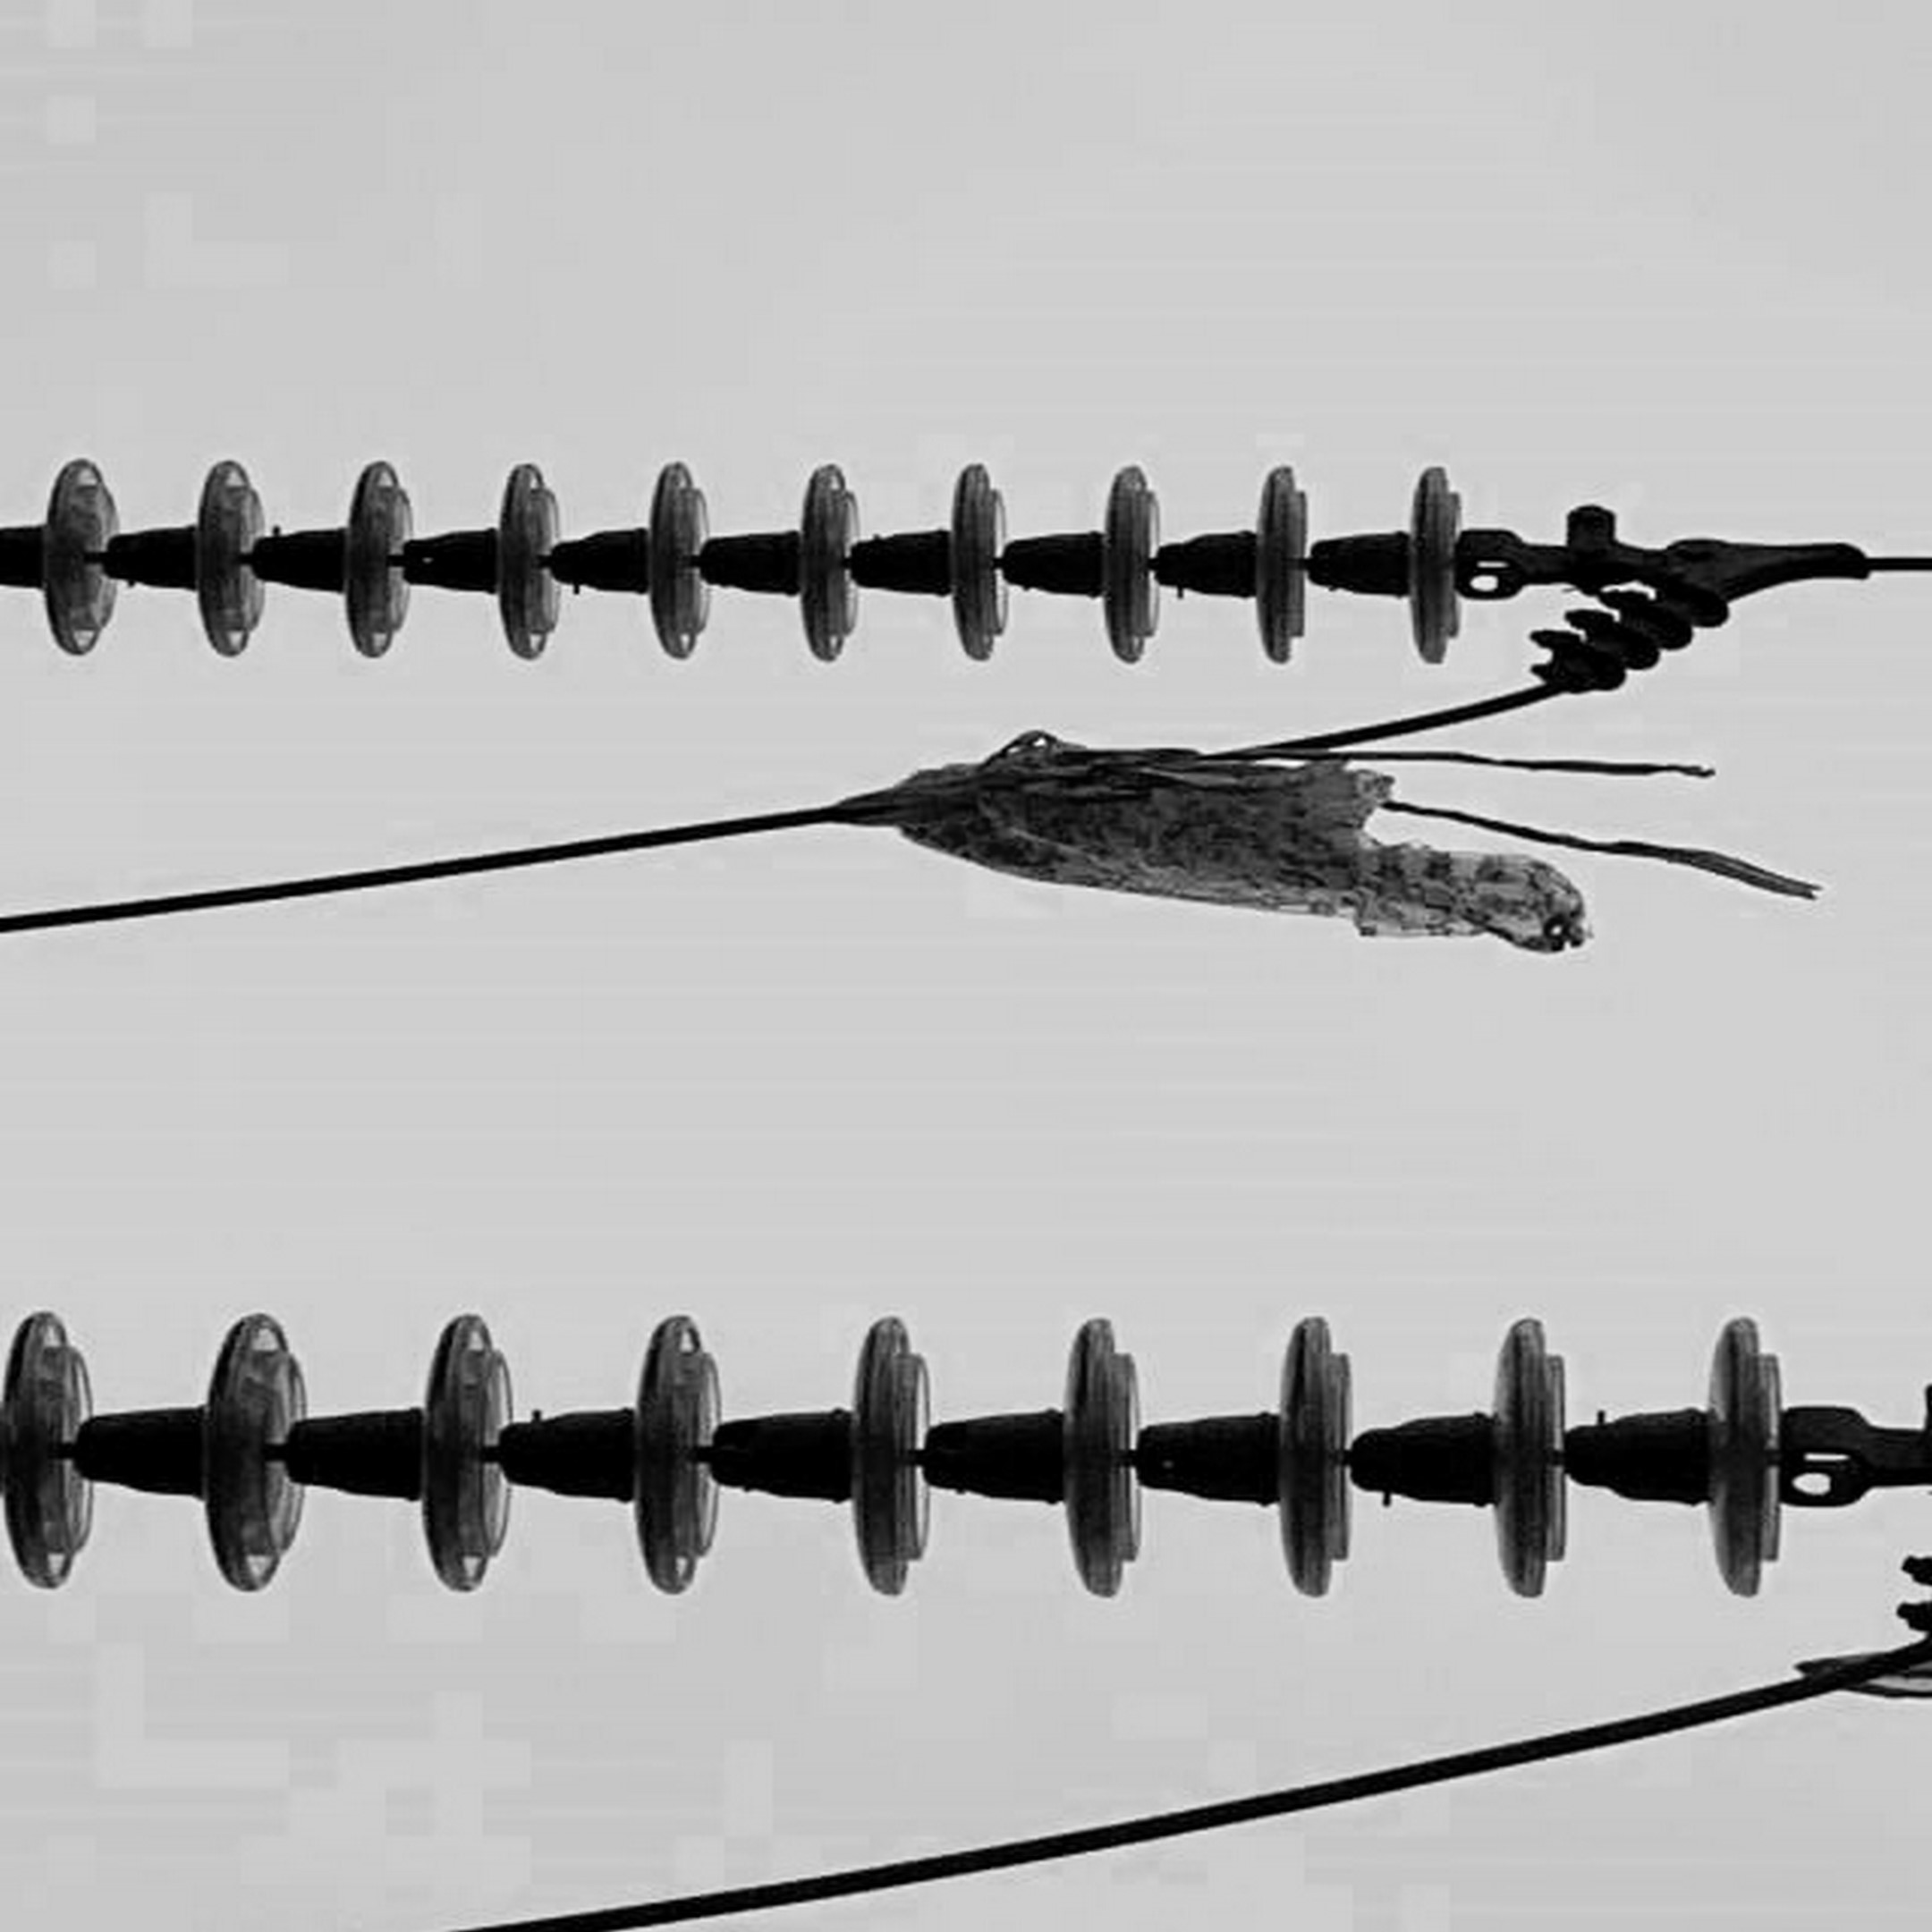wire foreign body: (846, 717, 1865, 994)
